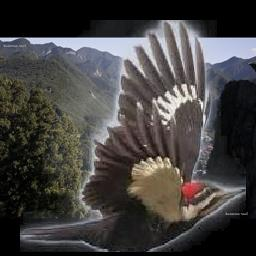Woodpecker: (20, 20, 246, 252)
